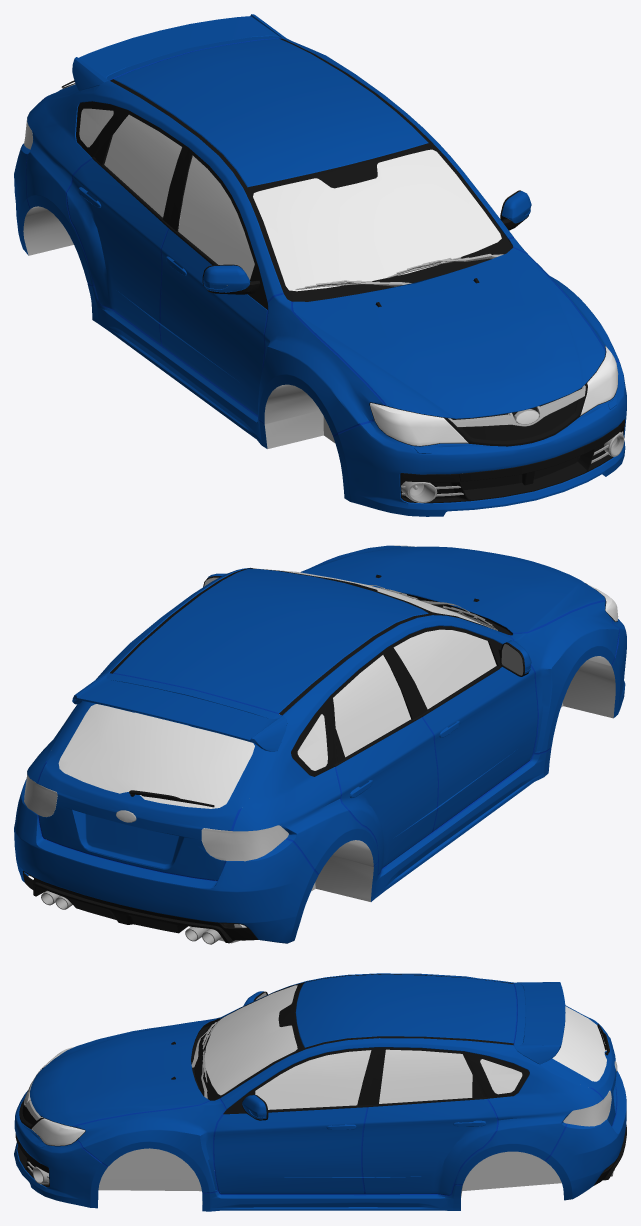
Rendered from Car-new.fbx.
3 views of the same model, one above another, from view 1: azimuth 30°, elevation 25°; view 2: azimuth 150°, elevation 25°; view 3: azimuth 270°, elevation 25° (orthographic). The views are drawn at different scales.
Parts seen in each view (by area): view 1: BodyMain, WindowsGlass, WindowFrame, Bumpers1, Chassis, lightGlass, Bumpers2, Metal, Seams, Wipers; view 2: BodyMain, WindowsGlass, WindowFrame, Chassis, Bumpers1, Seams, RearLightRight, RearLightLeft, Wipers, Exhaust; view 3: BodyMain, WindowsGlass, WindowFrame, Chassis, Seams, lightGlass, Bumpers1, RearLightLeft, Wipers, Metal.
Boxes of the visible parts, x1,y1,x2,y2 form: BodyMain: (14,14,626,516); WindowsGlass: (63,83,501,291); WindowFrame: (76,38,617,446); Bumpers1: (400,383,624,503); Chassis: (23,206,334,449); lightGlass: (370,346,618,445); Bumpers2: (400,400,605,498); Metal: (401,385,624,503); Seams: (25,38,619,436); Wipers: (61,80,503,307); BodyMain: (14,545,626,943); WindowsGlass: (58,568,496,808); WindowFrame: (110,568,617,776); Chassis: (28,656,615,943); Bumpers1: (22,583,587,943); Seams: (37,556,619,881); RearLightRight: (201,825,288,861); RearLightLeft: (24,771,57,816); Wipers: (129,574,497,807); Exhaust: (41,890,221,944); BodyMain: (14,973,626,1211); WindowsGlass: (205,985,606,1109); WindowFrame: (31,974,529,1146); Chassis: (98,1148,561,1210); Seams: (73,983,617,1196); lightGlass: (31,1047,85,1145); Bumpers1: (15,1068,626,1187); RearLightLeft: (563,1090,611,1126); Wipers: (171,1021,609,1098); Metal: (24,1061,616,1184).
Size of the model in its own units: 1.97 by 1.26 by 4.41.
